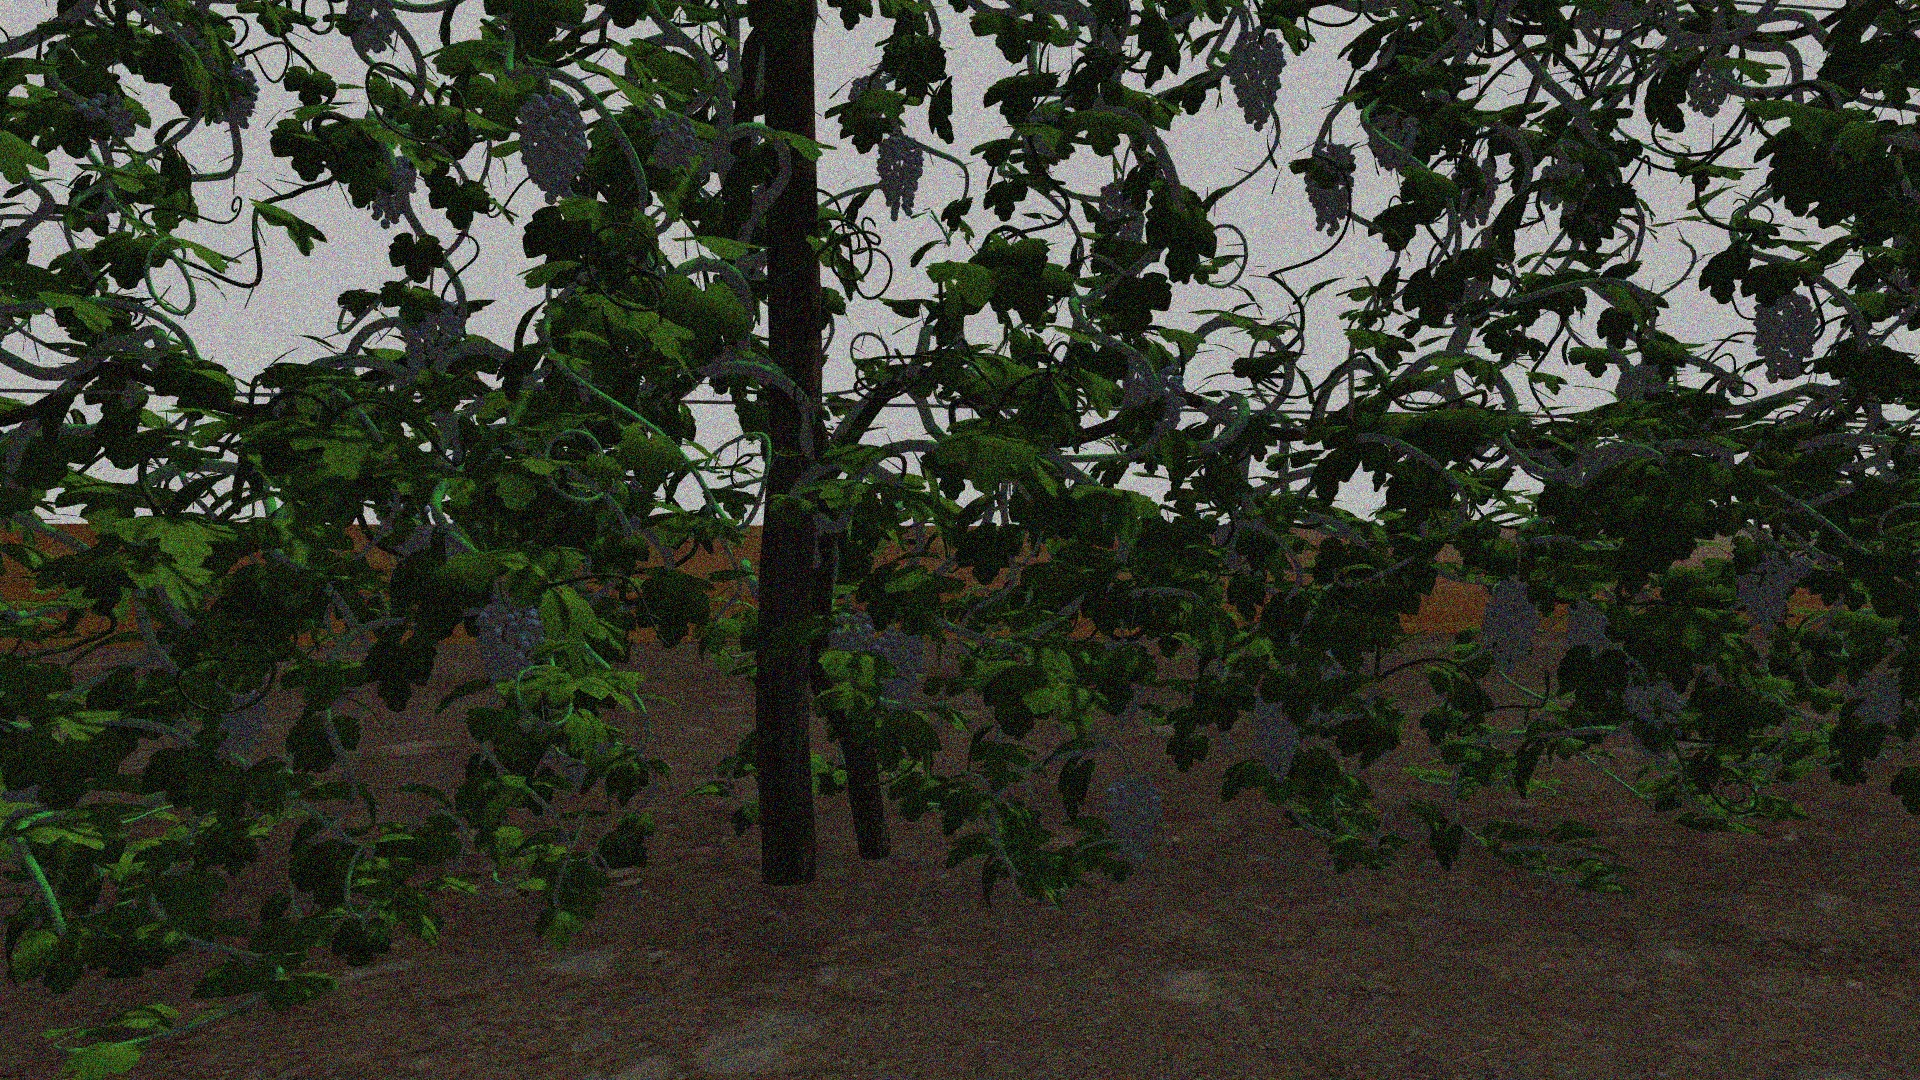grape: (517, 91, 587, 204), (1751, 287, 1818, 384), (1229, 32, 1288, 135), (1480, 578, 1540, 671), (476, 601, 541, 688), (1102, 775, 1162, 865), (1303, 142, 1357, 237), (398, 297, 462, 373), (1735, 554, 1793, 633), (1251, 694, 1302, 783), (876, 136, 924, 223), (210, 684, 269, 756), (1131, 365, 1189, 433), (1681, 51, 1733, 120), (369, 156, 417, 229), (876, 632, 924, 700), (1098, 177, 1145, 247), (1367, 109, 1418, 171), (1846, 675, 1903, 729), (647, 115, 698, 173), (76, 92, 136, 141), (1621, 682, 1677, 729), (345, 4, 397, 53), (827, 613, 876, 655)
